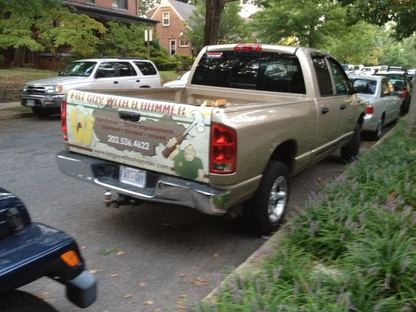car: (19, 59, 163, 120)
truck: (42, 49, 390, 238)
